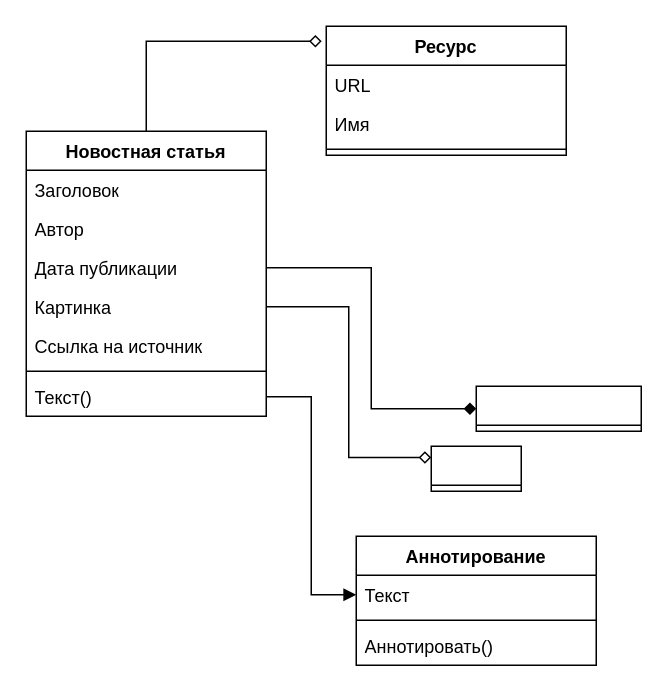
Image size: 668x696. Some labels were removed from this diagram. Here are the shapes that lost their labels. From the top down, the centre of each, then its label:
[558,408]: Категория статьи
[475,468]: Тэг
